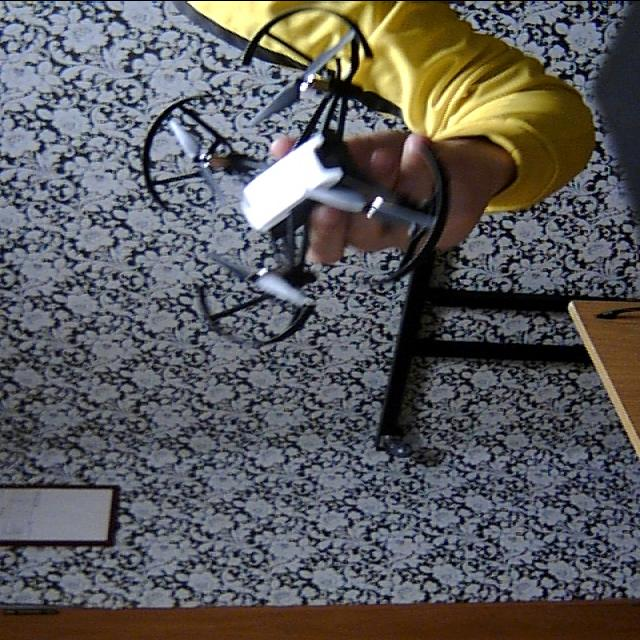drone: (136, 0, 470, 342)
